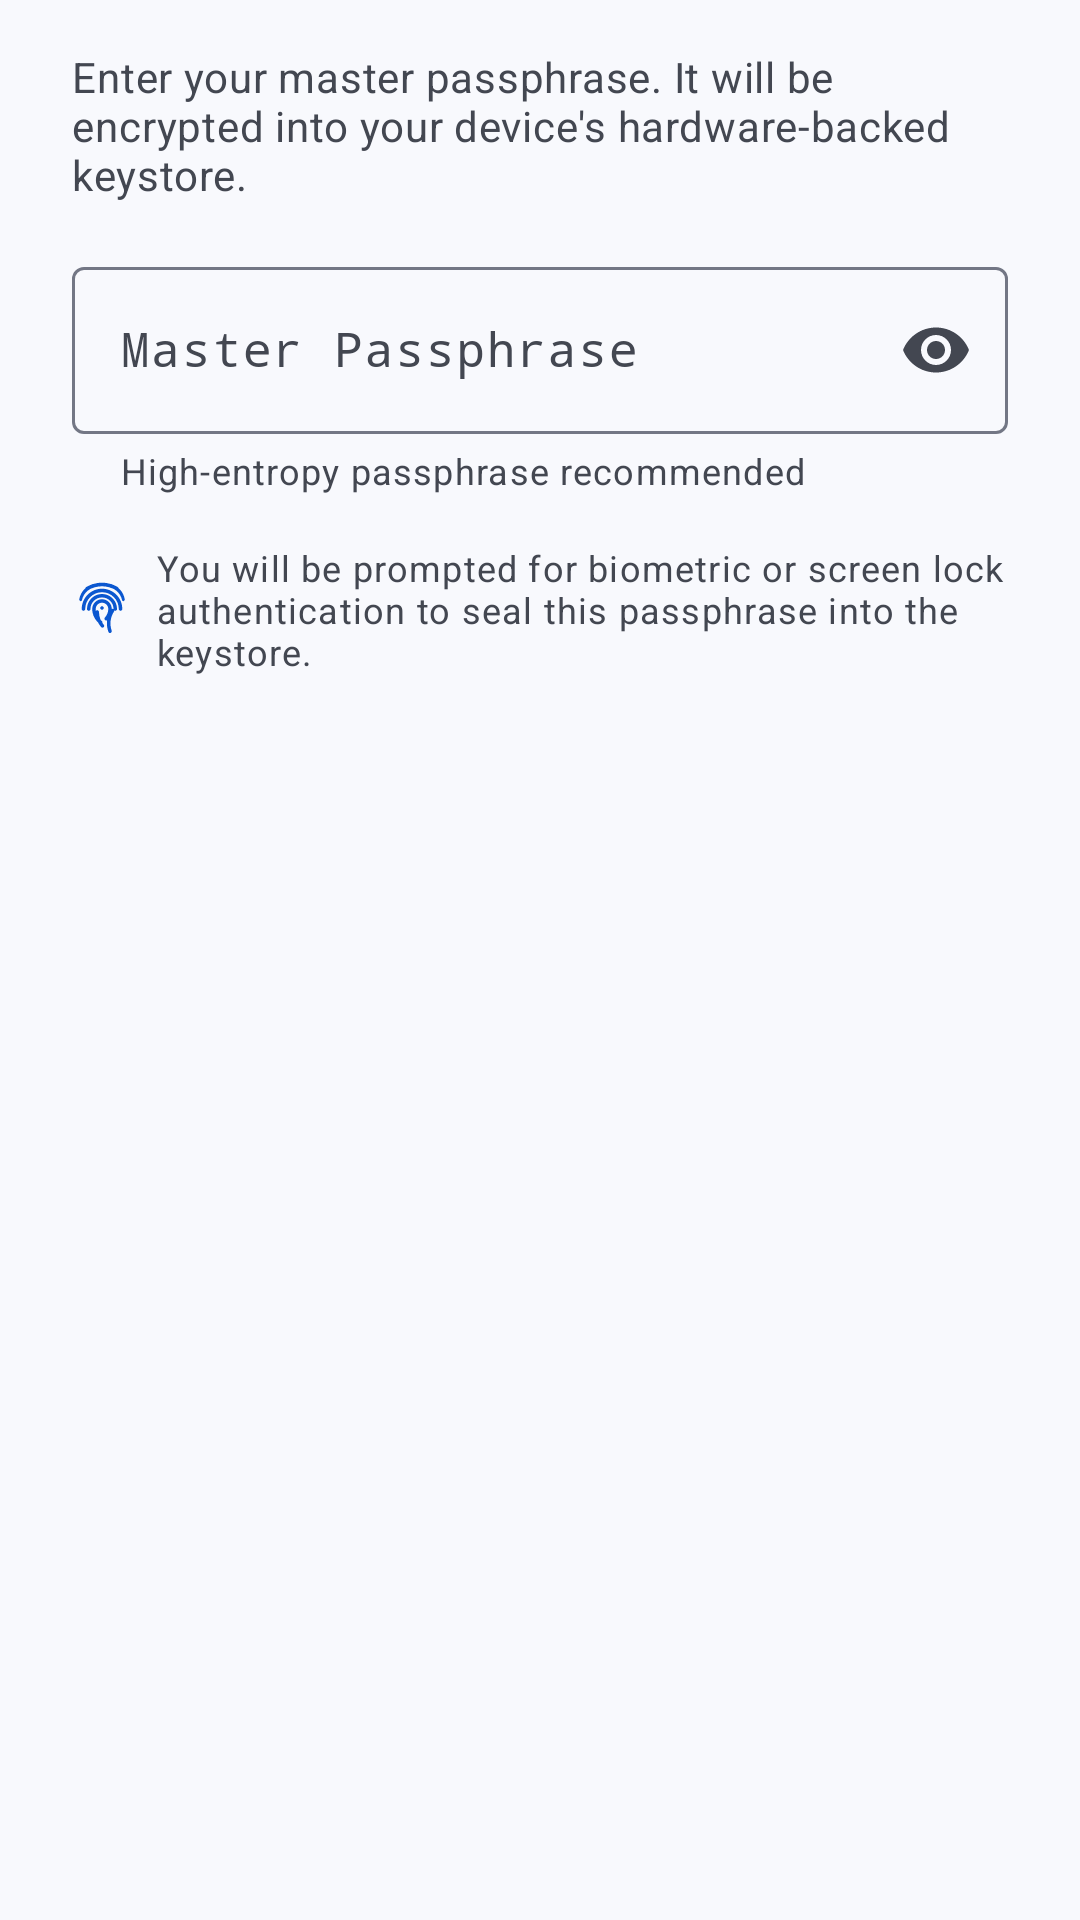

Screen size 1080×1920. Icon name, then its center in pixels as [x,y]:
fingerprint: [102,607]
